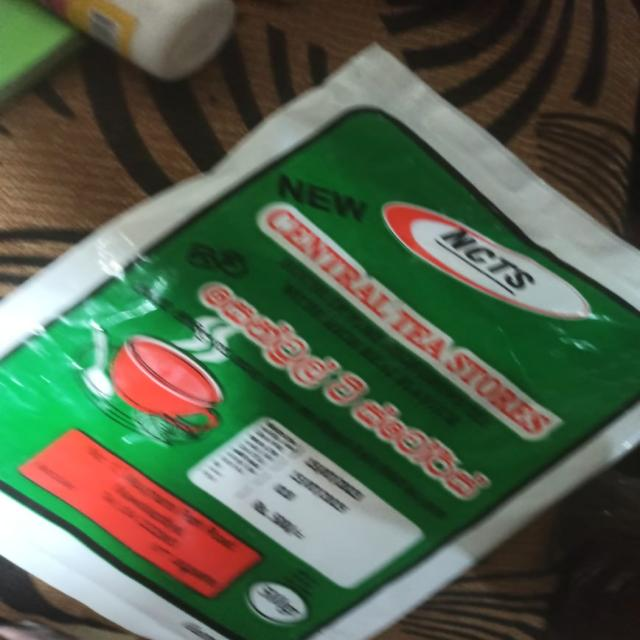Central Tea: (110, 130, 577, 596)
